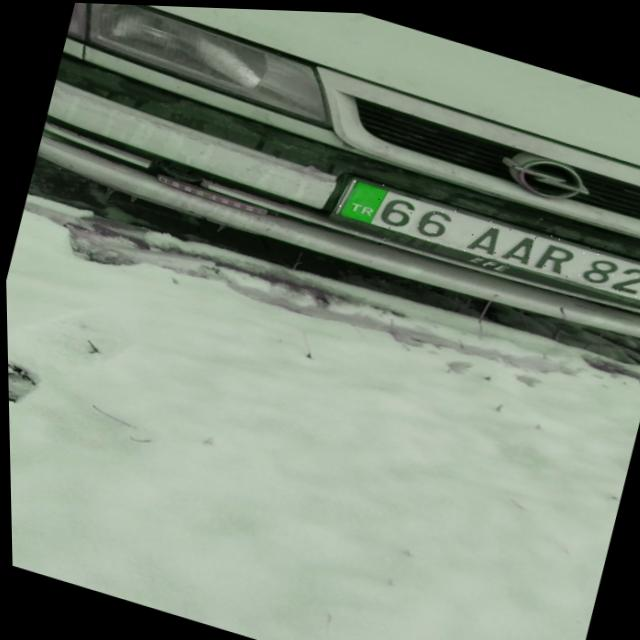license_plate: (333, 170, 640, 308)
